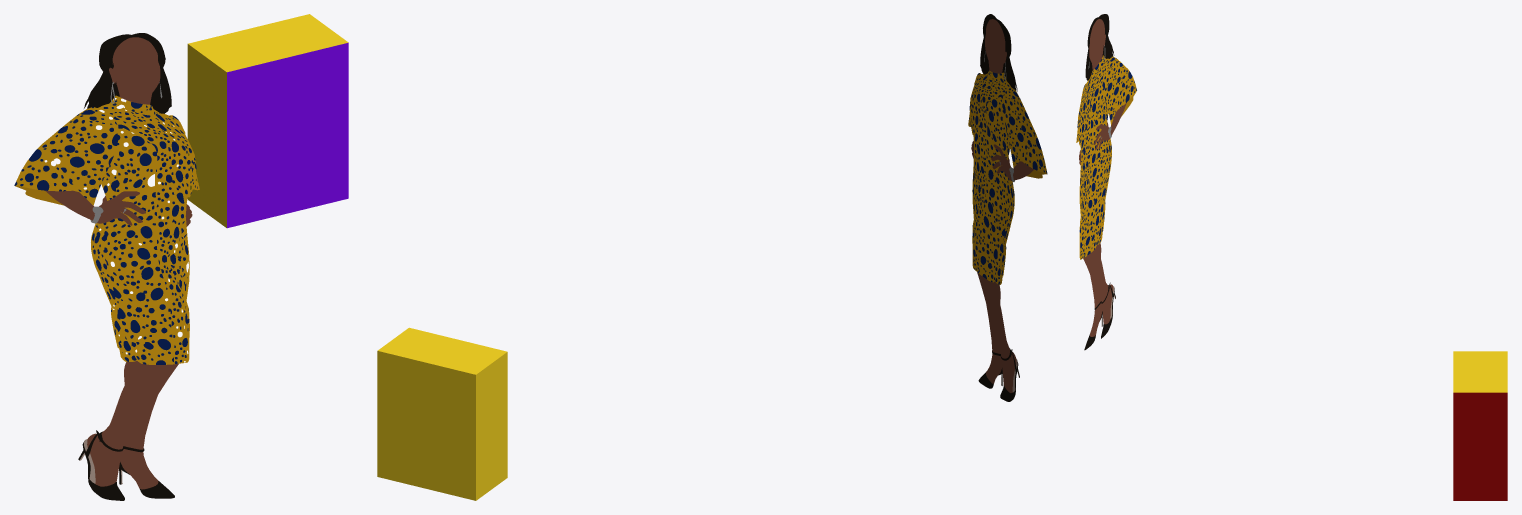
The picture shows the model from 3 angles, left to right: view 1: azimuth 30°, elevation 25°; view 2: azimuth 150°, elevation 25°; view 3: azimuth 270°, elevation 25°; orthographic projection. The views are drawn at different scales.
Visible parts, largest first — view 1: Sumele1, Model; view 2: Model, Sumele1; view 3: Sumele1, Model.
Part boxes in pixels (<box>): Sumele1: <box>14,33,199,500</box>; Model: <box>187,14,348,228</box>; Model: <box>377,327,507,500</box>; Sumele1: <box>968,14,1047,401</box>; Sumele1: <box>1076,14,1136,350</box>; Model: <box>1453,351,1507,500</box>.
Size of the model in its own units: 2.07 by 1.65 by 1.98.
